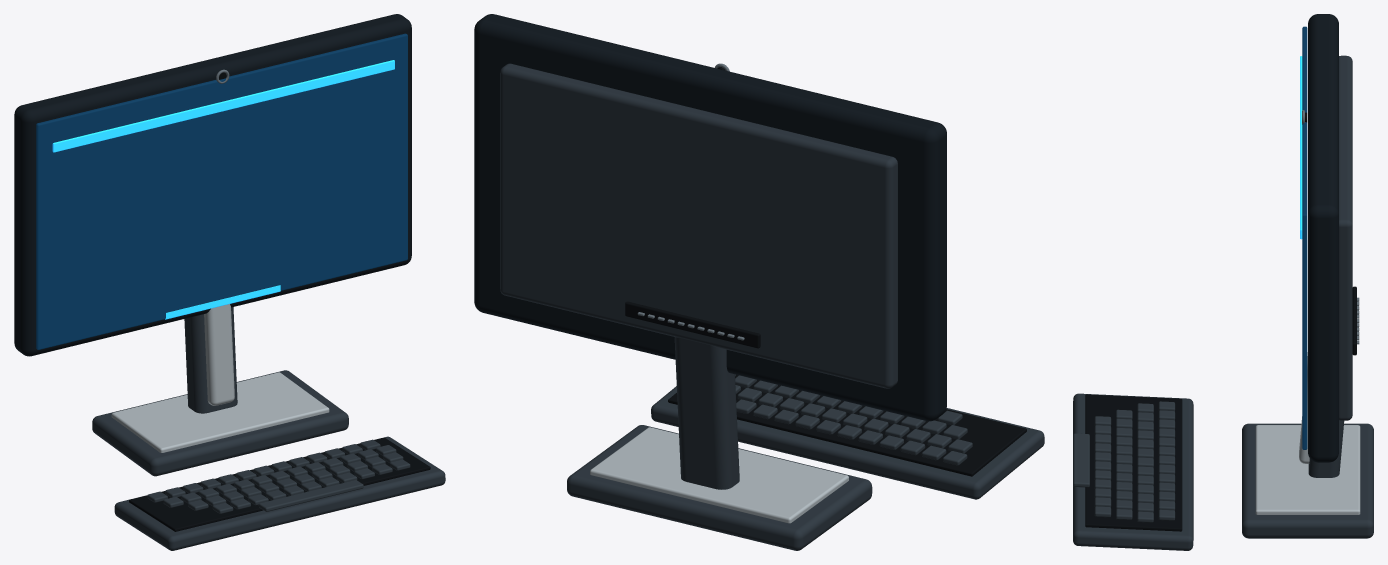
File: login-workstation.glb
3 renders of one model, left to right at view 1: azimuth 30°, elevation 25°; view 2: azimuth 150°, elevation 25°; view 3: azimuth 270°, elevation 25°, orthographic. The views are drawn at different scales.
Parts seen in each view (by area): view 1: edge-to-edge display, MSBM premium all-in-one workstation, display enclosure, stand base, MSBM screen accent, stand highlight, stand neck; view 2: rear aluminum shell, display enclosure, MSBM premium all-in-one workstation, stand base, stand neck, rear ventilation; view 3: MSBM premium all-in-one workstation, display enclosure, stand base, rear aluminum shell, edge-to-edge display, stand neck, MSBM screen accent.
Part boxes in pixels (bbox=[...]): edge-to-edge display: bbox=[36, 33, 407, 349]; MSBM premium all-in-one workstation: bbox=[111, 69, 445, 550]; display enclosure: bbox=[14, 14, 411, 356]; stand base: bbox=[92, 370, 348, 476]; MSBM screen accent: bbox=[52, 60, 394, 152]; stand highlight: bbox=[204, 304, 234, 405]; stand neck: bbox=[184, 307, 237, 413]; rear aluminum shell: bbox=[500, 63, 897, 388]; display enclosure: bbox=[474, 14, 946, 421]; MSBM premium all-in-one workstation: bbox=[590, 63, 1044, 523]; stand base: bbox=[567, 425, 872, 550]; stand neck: bbox=[674, 337, 739, 489]; rear ventilation: bbox=[625, 301, 760, 348]; MSBM premium all-in-one workstation: bbox=[1073, 110, 1360, 550]; display enclosure: bbox=[1308, 14, 1338, 462]; stand base: bbox=[1242, 423, 1373, 538]; rear aluminum shell: bbox=[1339, 55, 1352, 420]; edge-to-edge display: bbox=[1302, 26, 1307, 449]; stand neck: bbox=[1308, 420, 1344, 477]; MSBM screen accent: bbox=[1300, 56, 1302, 239].
Bounding box in the file's own units: 2.42 × 2.19 × 1.55.
